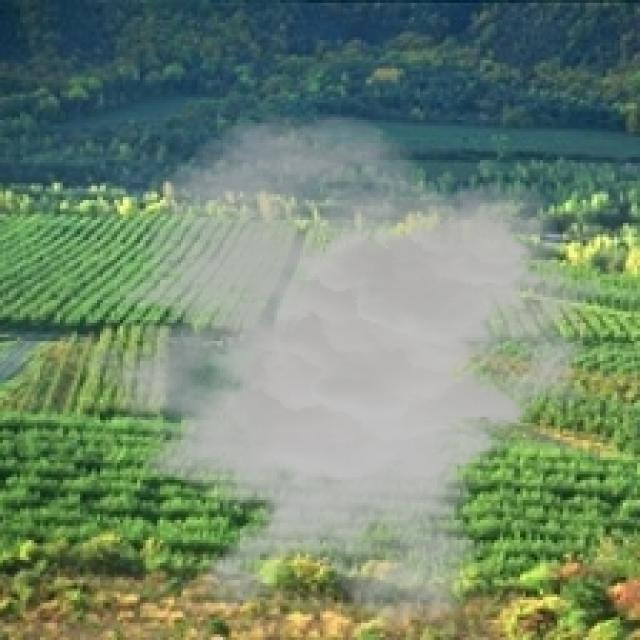Smoke: (51, 111, 606, 632)
